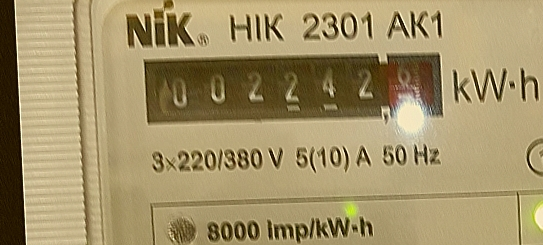0: (167, 75, 189, 109), (205, 71, 226, 104)
2: (243, 69, 264, 102), (280, 69, 299, 103), (354, 67, 373, 100)
4: (319, 65, 336, 98)
6: (394, 59, 411, 87)
screen: (131, 35, 453, 140)
